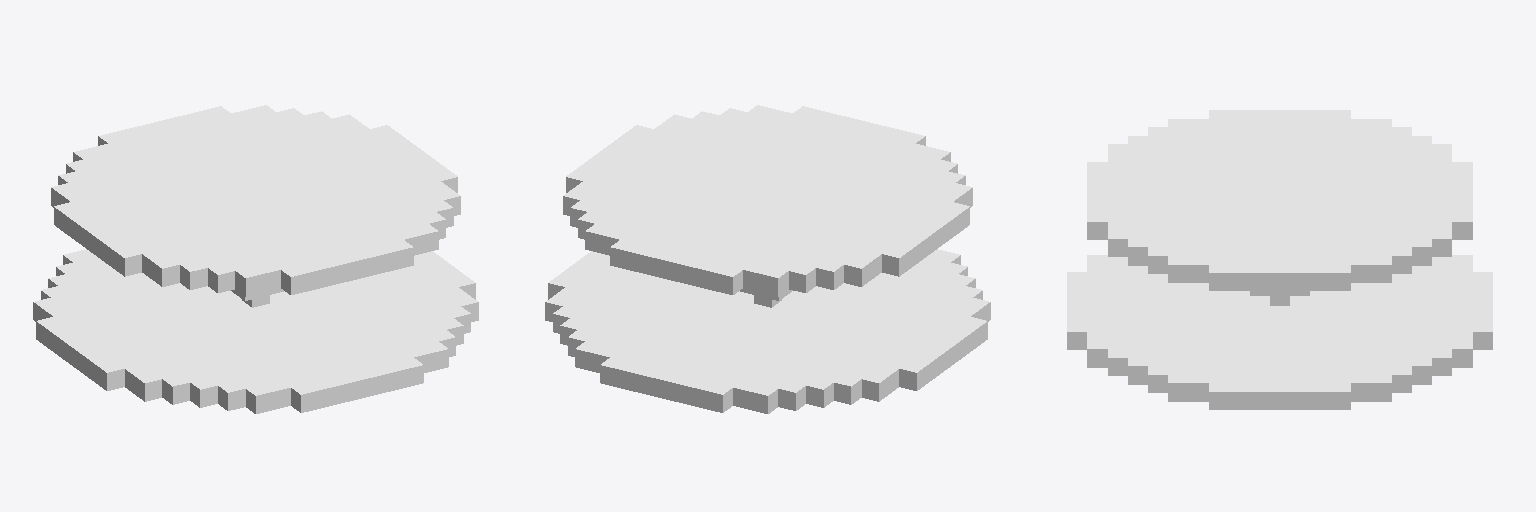
File: trampoline.obj
The picture shows the model from 3 angles: view 1: azimuth 30°, elevation 25°; view 2: azimuth 150°, elevation 25°; view 3: azimuth 270°, elevation 25°; orthographic projection.
Parts seen in each view (by area): view 1: object 1; view 2: object 1; view 3: object 1.
Part boxes in pixels (bbox=[...]): object 1: bbox=[33, 105, 478, 413]; object 1: bbox=[545, 105, 990, 413]; object 1: bbox=[1067, 110, 1492, 409].
Bounding box in the file's own units: 2.1 × 0.7 × 2.1.